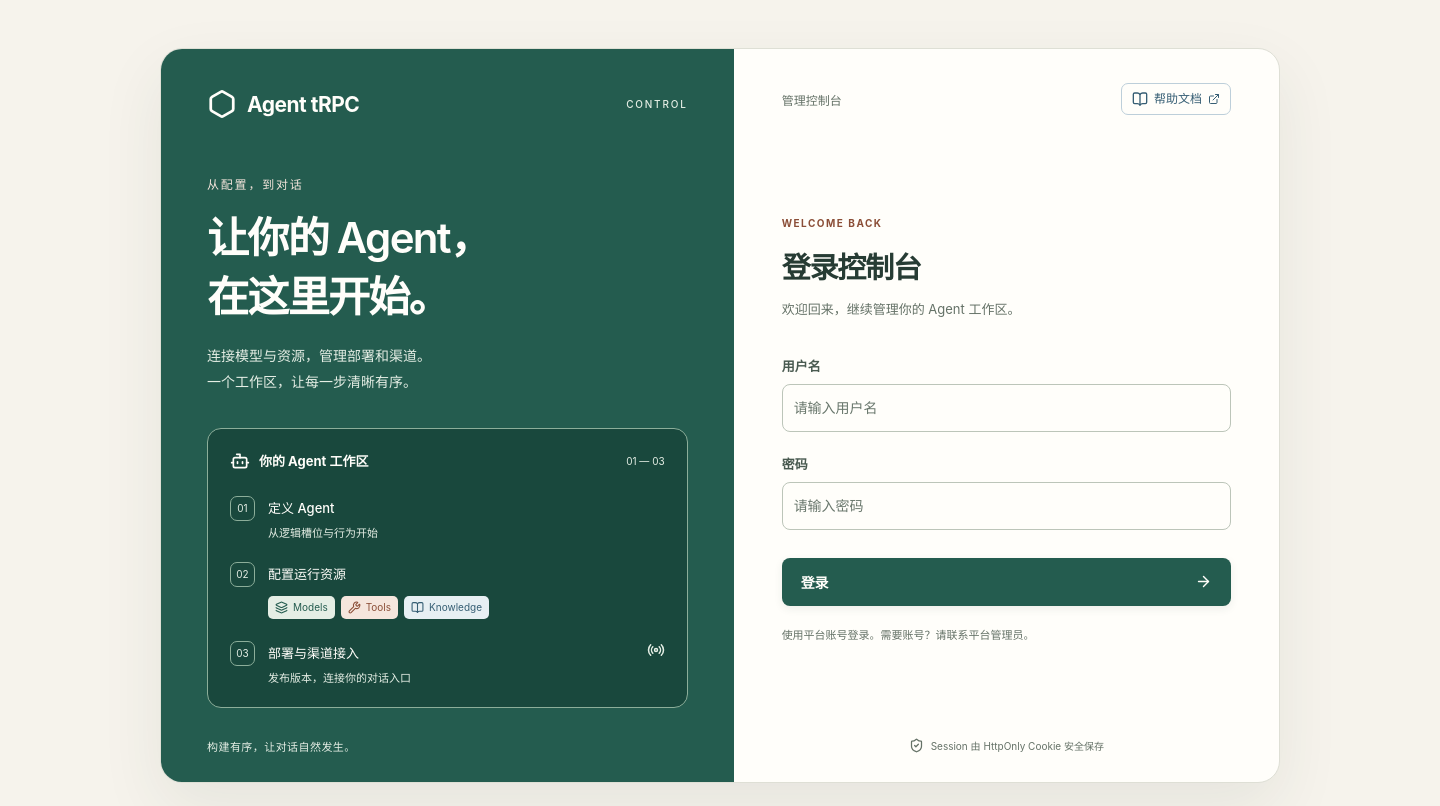
Test case: post-authentication destinations › shows authentication failures without losing the entered username
The image size is (1440, 806).
Type "example" into the field labelled "用户名" at (1006, 408), box [782,384,1231,432]
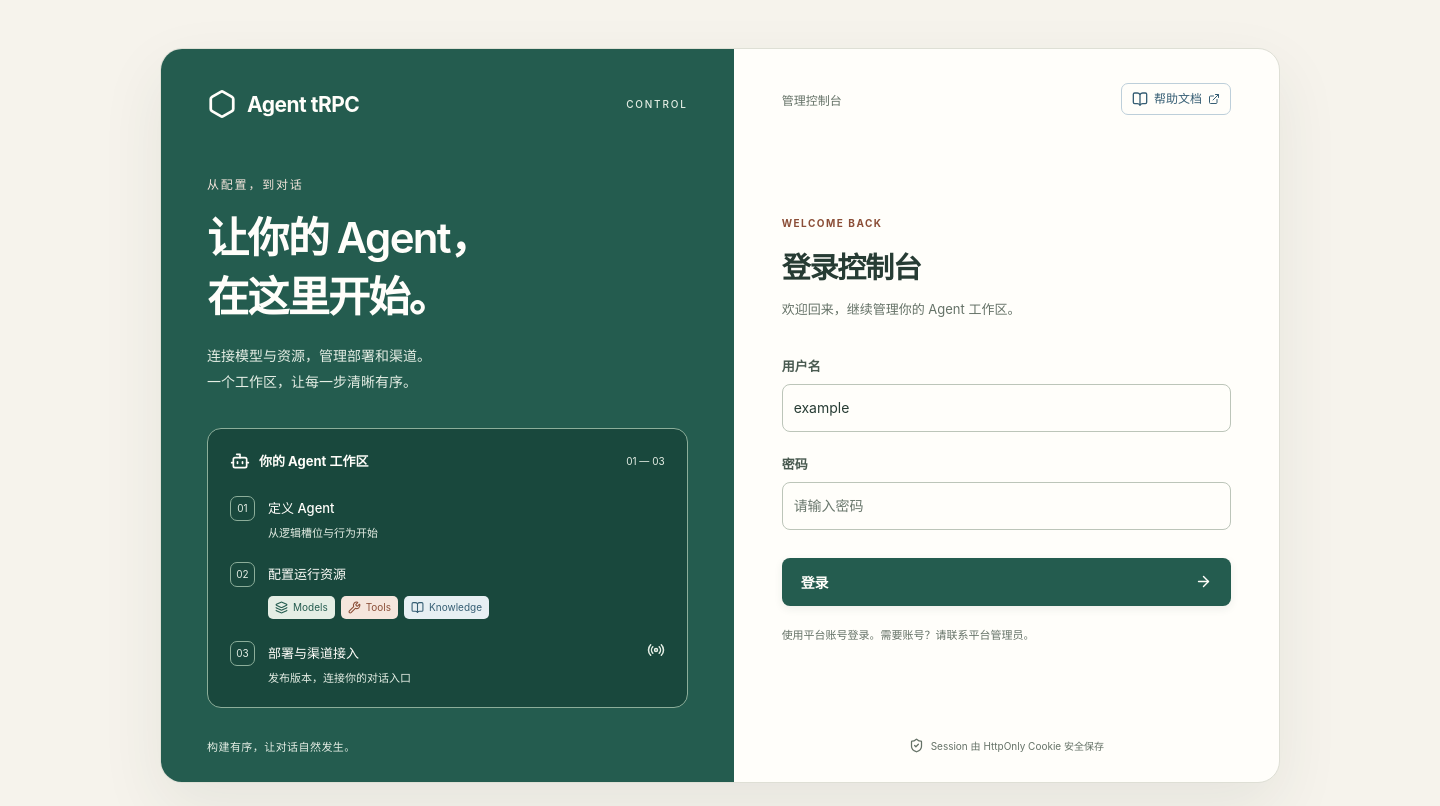
Type "example-password" into the password field labelled "密码" at (1006, 506), box [782,482,1231,530]
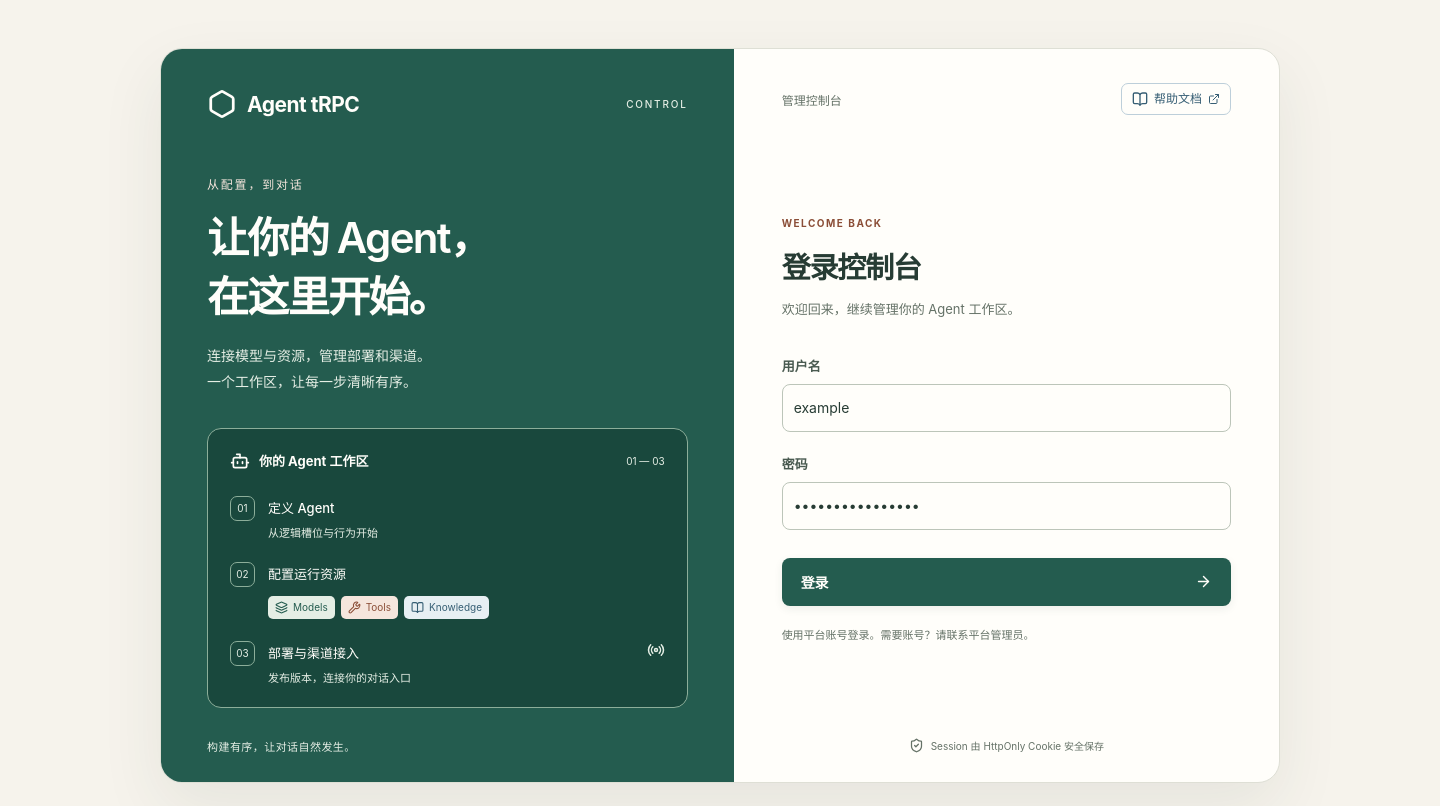
Click the button "登录" at (815, 582), box [782,558,1231,606]
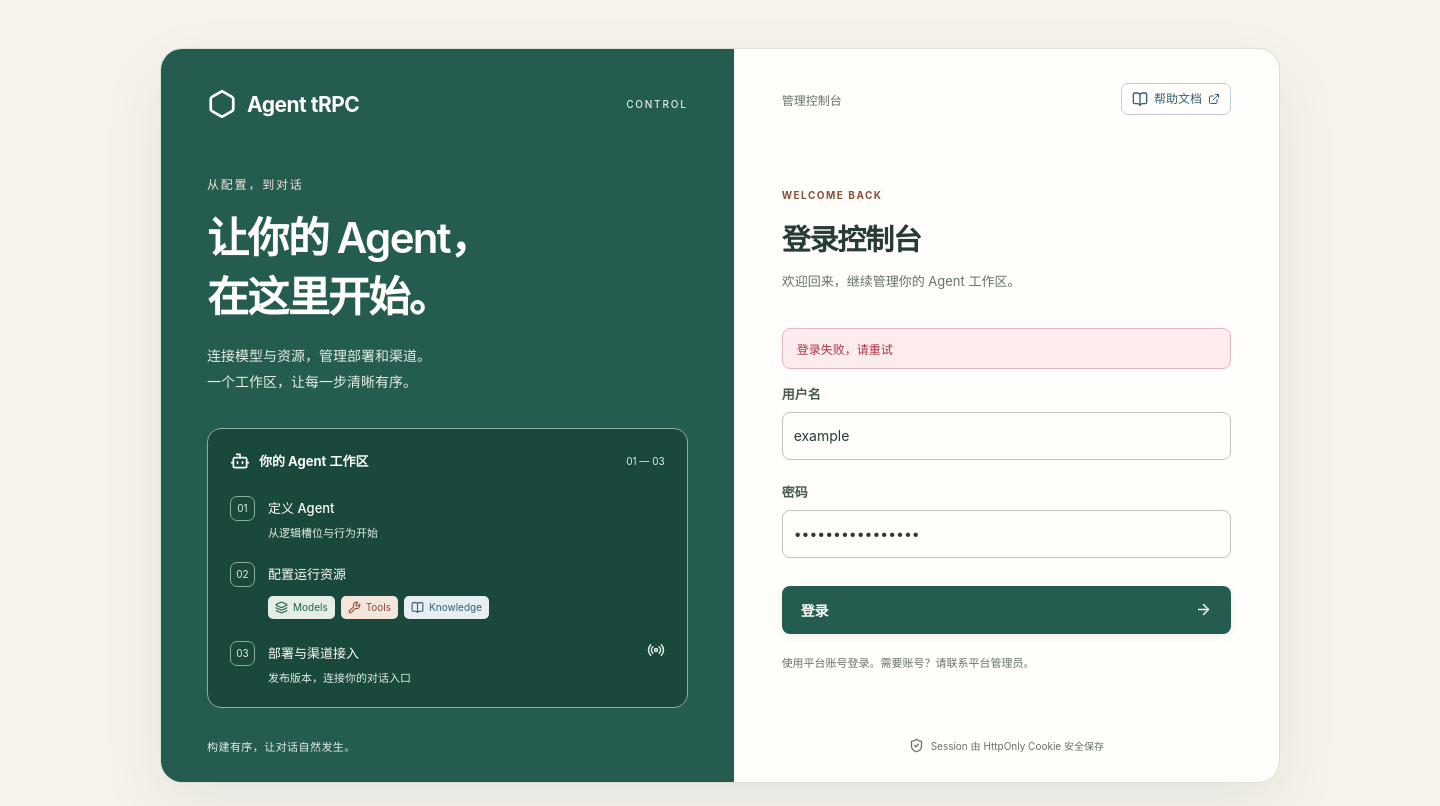
Check: the button "登录" is enabled, box [782,586,1231,634]
Check: the message reads "登录失败，请重试", box [797,342,893,357]
